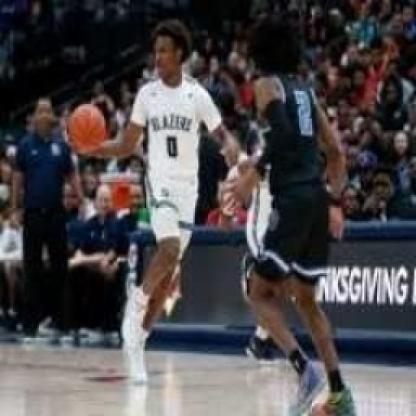basketball: (69, 103, 105, 152)
